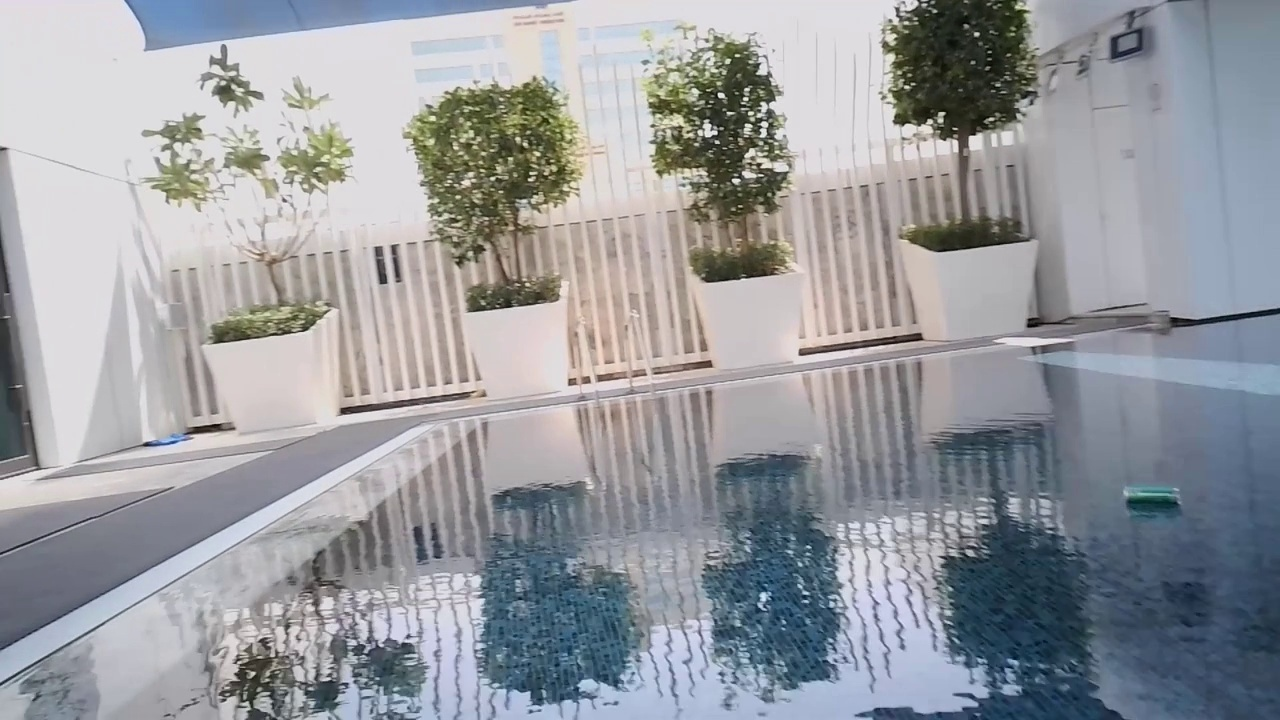debris: (1118, 478, 1185, 514)
